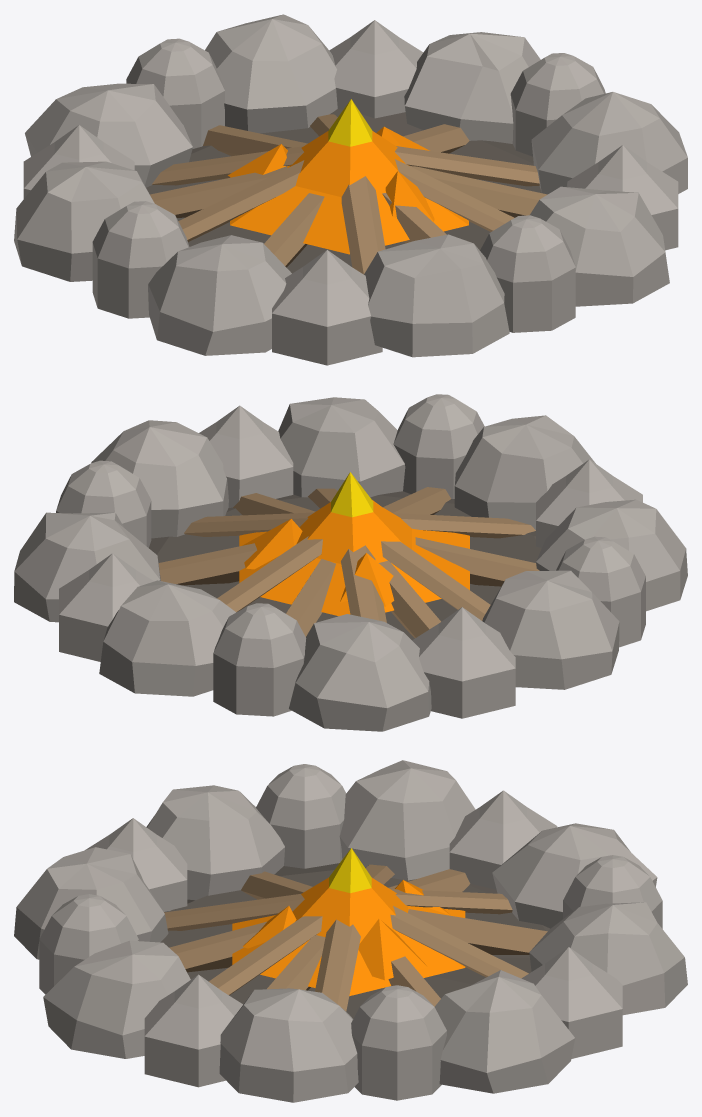
The model's file is Firepit_LOD0_roblox.fbx.
3 views of the same model, one above another, from view 1: azimuth 30°, elevation 25°; view 2: azimuth 150°, elevation 25°; view 3: azimuth 270°, elevation 25° (orthographic). The views are drawn at different scales.
Parts seen in each view (by area): view 1: Firepit_FirepitStoneMat, Firepit_FirepitLogMat, Firepit_FirepitFireMat, Firepit_FirepitAshMat, Firepit_FirepitGlowMat; view 2: Firepit_FirepitStoneMat, Firepit_FirepitLogMat, Firepit_FirepitFireMat, Firepit_FirepitAshMat, Firepit_FirepitGlowMat; view 3: Firepit_FirepitStoneMat, Firepit_FirepitLogMat, Firepit_FirepitFireMat, Firepit_FirepitAshMat, Firepit_FirepitGlowMat.
Part boxes in pixels (bbox=[...]): Firepit_FirepitStoneMat: bbox=[14, 14, 687, 365]; Firepit_FirepitLogMat: bbox=[150, 114, 547, 274]; Firepit_FirepitFireMat: bbox=[228, 126, 468, 254]; Firepit_FirepitAshMat: bbox=[146, 109, 541, 273]; Firepit_FirepitGlowMat: bbox=[328, 99, 372, 146]; Firepit_FirepitStoneMat: bbox=[14, 394, 687, 731]; Firepit_FirepitLogMat: bbox=[158, 487, 539, 638]; Firepit_FirepitFireMat: bbox=[239, 500, 469, 616]; Firepit_FirepitAshMat: bbox=[149, 491, 541, 639]; Firepit_FirepitGlowMat: bbox=[331, 472, 373, 517]; Firepit_FirepitStoneMat: bbox=[14, 760, 687, 1102]; Firepit_FirepitLogMat: bbox=[164, 864, 547, 1011]; Firepit_FirepitFireMat: bbox=[232, 877, 465, 995]; Firepit_FirepitAshMat: bbox=[160, 863, 549, 1018]; Firepit_FirepitGlowMat: bbox=[329, 848, 371, 893].
Bounding box in the file's own units: 4 × 3.98 × 0.8817.
